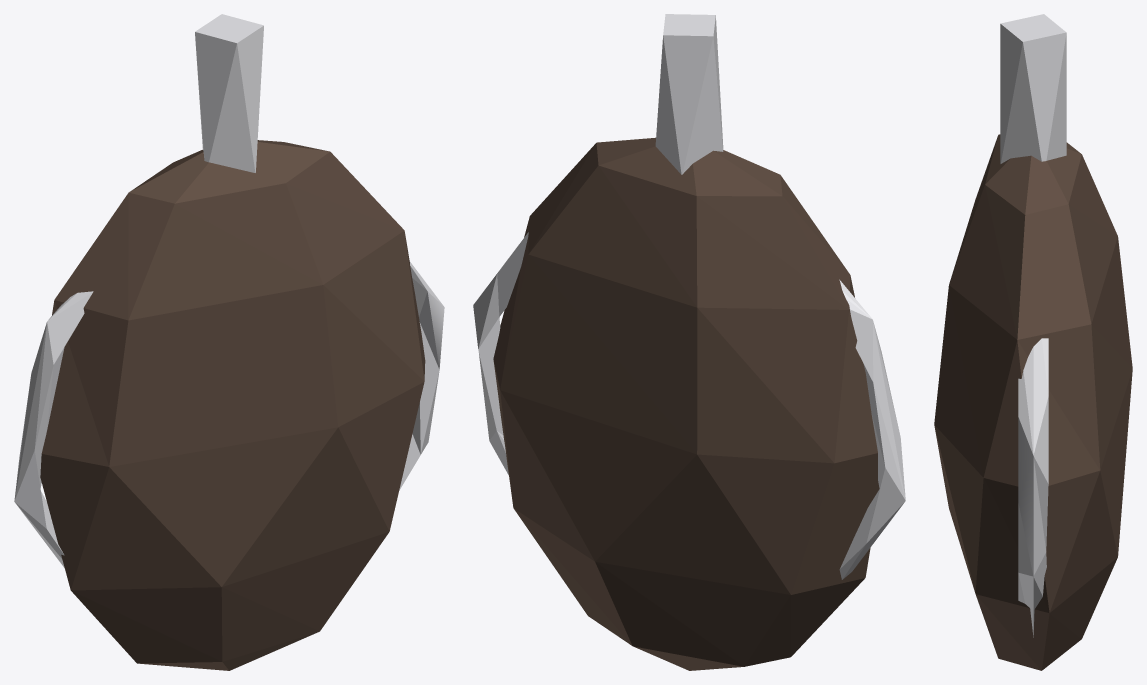
Rendered from powder_flask_lod1.glb.
3 views of the same model, side by side, from view 1: azimuth 30°, elevation 25°; view 2: azimuth 150°, elevation 25°; view 3: azimuth 270°, elevation 25° (orthographic). The views are drawn at different scales.
Parts seen in each view (by area): view 1: m; view 2: m; view 3: m.
Part boxes in pixels (bbox=[...]): m: bbox=[14, 14, 444, 670]; m: bbox=[473, 14, 905, 670]; m: bbox=[934, 14, 1132, 670].
Bounding box in the file's own units: 0.1318 × 0.188 × 0.0537.
